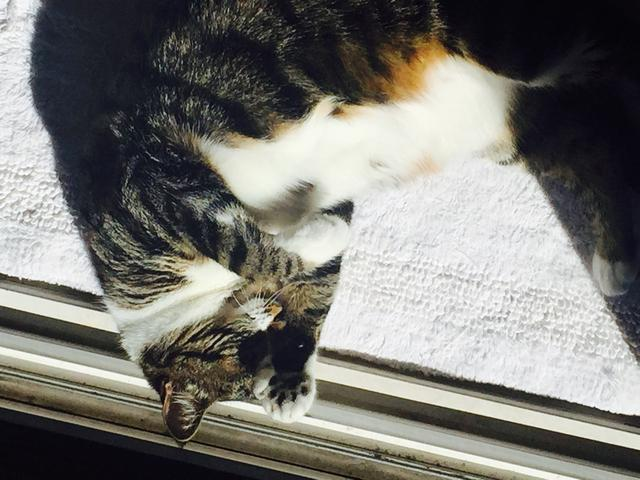playdoh: (27, 1, 640, 447)
